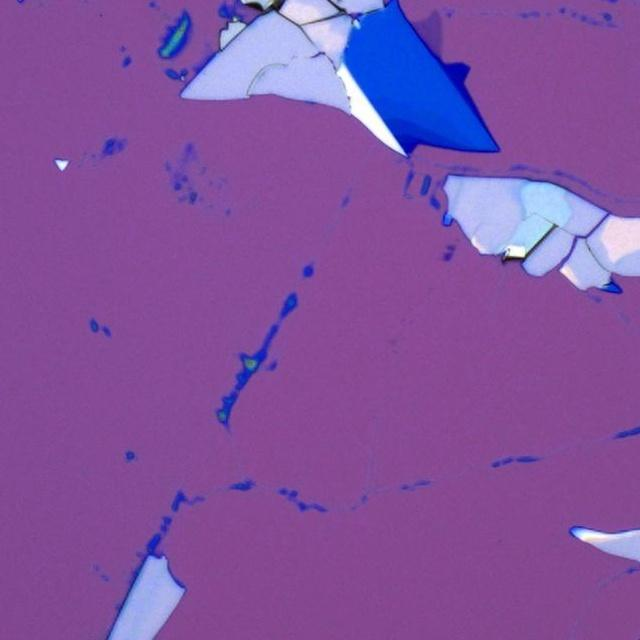monolayer-eWW4: (409, 4, 446, 56)
